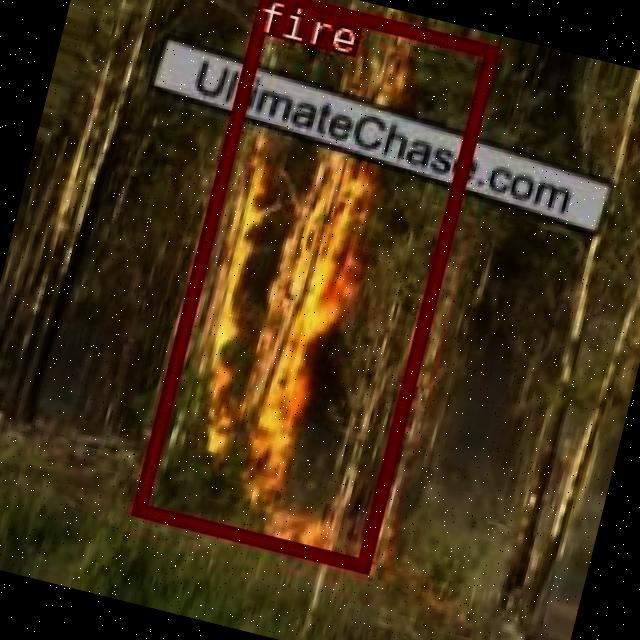fire: (129, 0, 496, 570)
